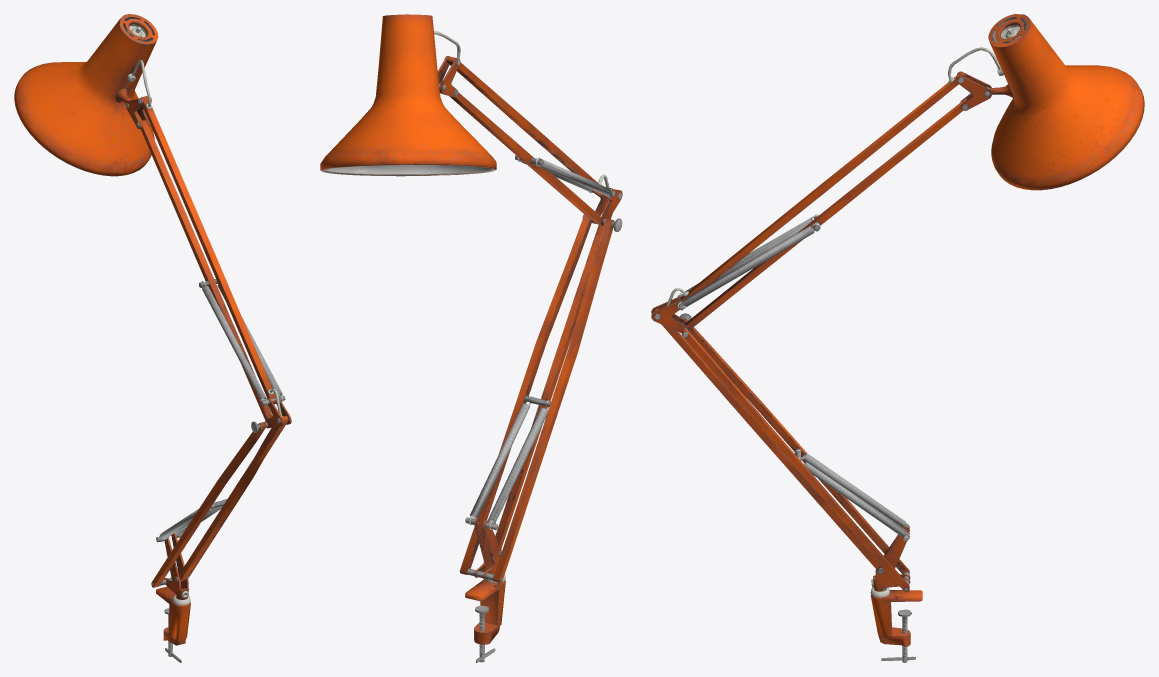
The model's file is desk-lamp-mobile.glb.
3 renders of one model, left to right at view 1: azimuth 30°, elevation 25°; view 2: azimuth 150°, elevation 25°; view 3: azimuth 270°, elevation 25°, orthographic. The views are drawn at different scales.
Visible parts, largest first — view 1: desk_lamp_arm_01; view 2: desk_lamp_arm_01; view 3: desk_lamp_arm_01.
Part boxes in pixels (box(x1,y1,x2,y2)): desk_lamp_arm_01: box(14, 14, 291, 662); desk_lamp_arm_01: box(320, 14, 622, 662); desk_lamp_arm_01: box(651, 14, 1144, 662).
Bounding box in the file's own units: 0.2017 × 0.8926 × 0.6139.
Materials: 2 (2 with a texture image).
